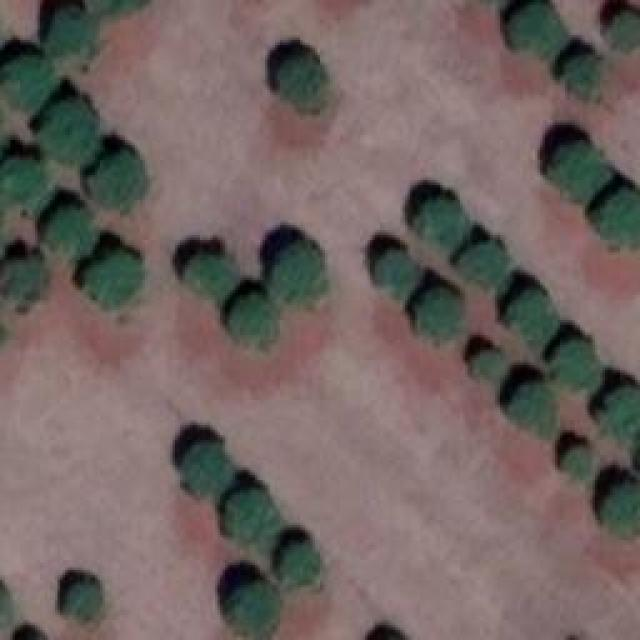Tree: (40, 100, 98, 163), (225, 490, 285, 550), (550, 145, 610, 203), (267, 245, 325, 303), (90, 152, 145, 210), (510, 3, 568, 58), (0, 58, 58, 110), (280, 53, 330, 113), (90, 253, 143, 308), (508, 290, 558, 348), (48, 7, 98, 65), (415, 200, 468, 253), (232, 582, 280, 640), (510, 383, 553, 446), (185, 443, 235, 496), (228, 295, 278, 348), (550, 340, 600, 393), (0, 160, 48, 208), (597, 189, 640, 242), (5, 258, 48, 311), (45, 210, 98, 253), (605, 385, 640, 450), (418, 290, 463, 340), (185, 255, 235, 298), (460, 245, 508, 288), (602, 485, 640, 535), (380, 250, 418, 298), (280, 545, 320, 588), (565, 52, 600, 100), (610, 12, 640, 50), (68, 583, 101, 613), (563, 445, 593, 478), (473, 350, 503, 380)
